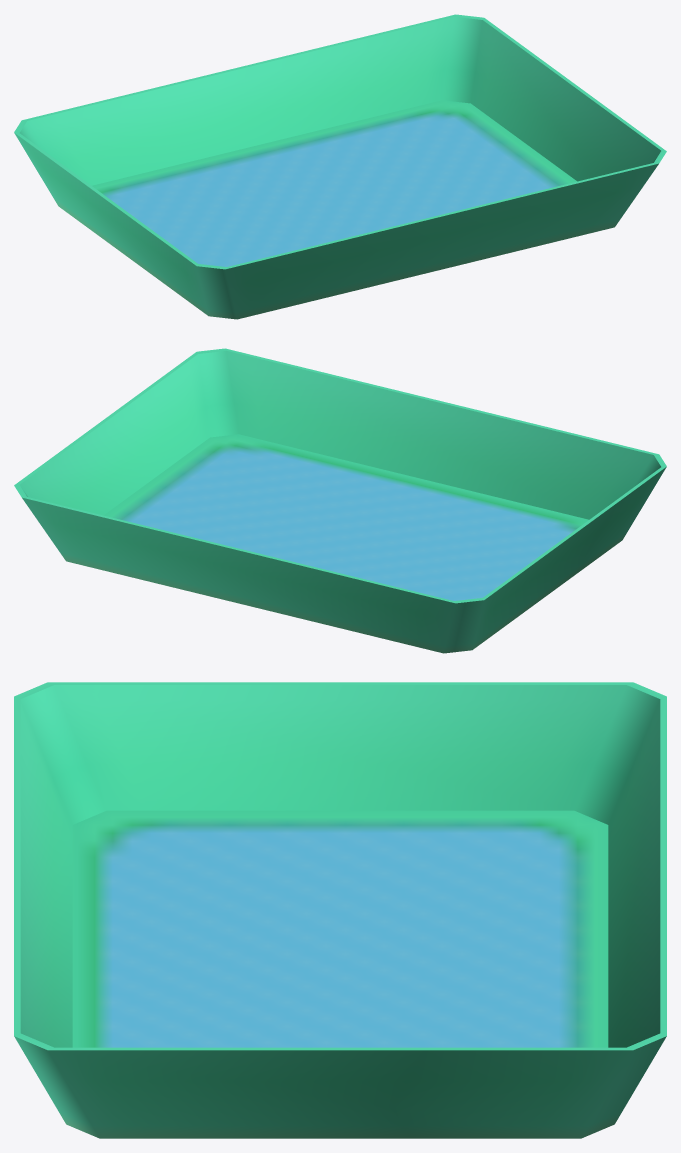
File: jsf_Carton_05.fbx
3 views of the same model, one above another, from view 1: azimuth 30°, elevation 25°; view 2: azimuth 150°, elevation 25°; view 3: azimuth 270°, elevation 25° (orthographic). The views are drawn at different scales.
Parts seen in each view (by area): view 1: jsf_Carton_05; view 2: jsf_Carton_05; view 3: jsf_Carton_05.
Boxes of the visible parts, left/top/right/bottom form: jsf_Carton_05: left=14, top=14, right=666, bottom=319; jsf_Carton_05: left=14, top=348, right=666, bottom=653; jsf_Carton_05: left=14, top=682, right=666, bottom=1138.
Bounding box in the file's own units: 20 × 2.8 × 15.
